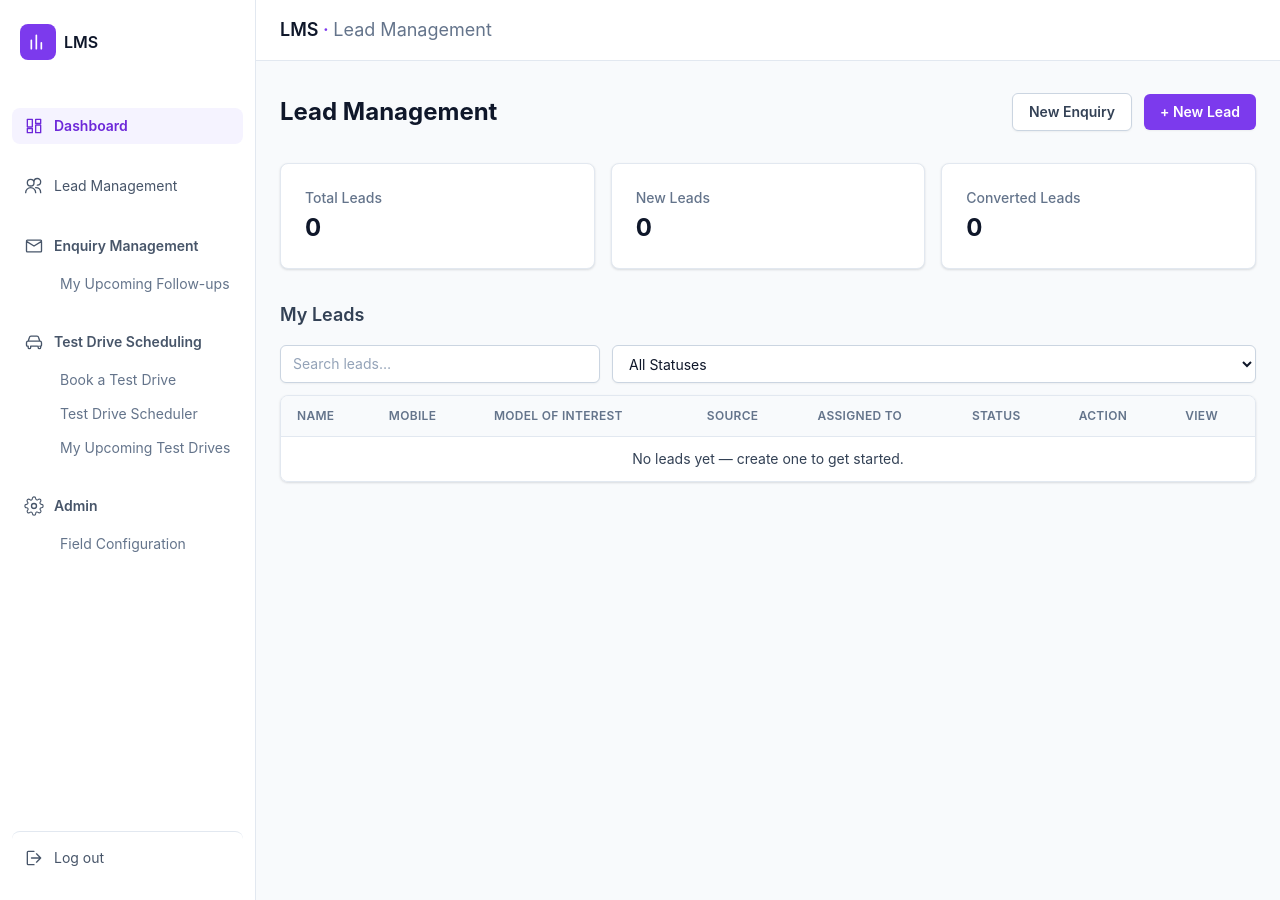
it: LeadManagementPage entry point / feature toggle (CC-10) › New Lead slide-over panel (issue #118) › AC3: closing via the close button removes the panel and leaves the page intact
Click the button "+ New Lead": (1200, 112) [1144,94,1256,130]
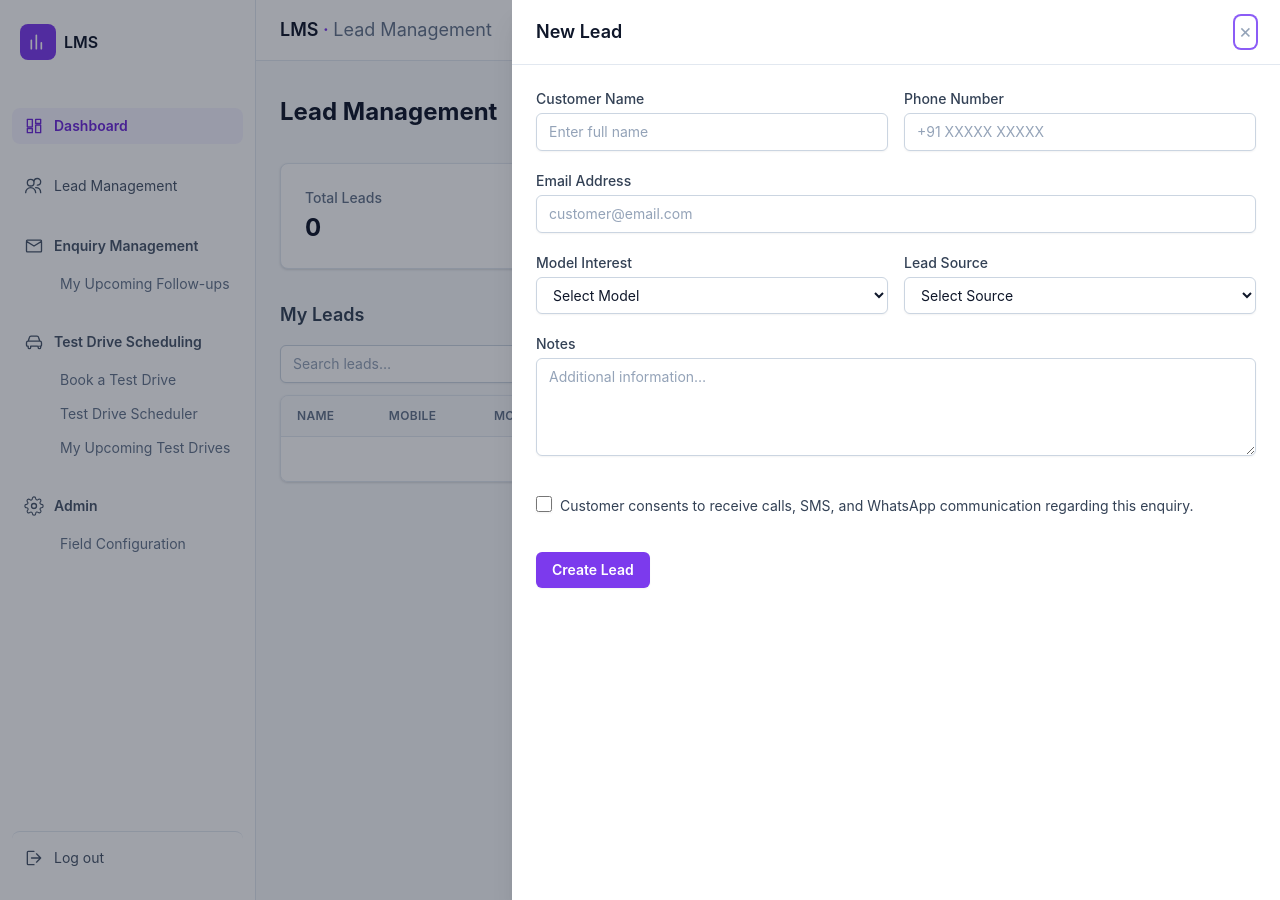
Result: the dialog "New Lead" is shown at [512,0,1279,899]
Click the button named "close": (1245, 32) [1235,16,1256,48]
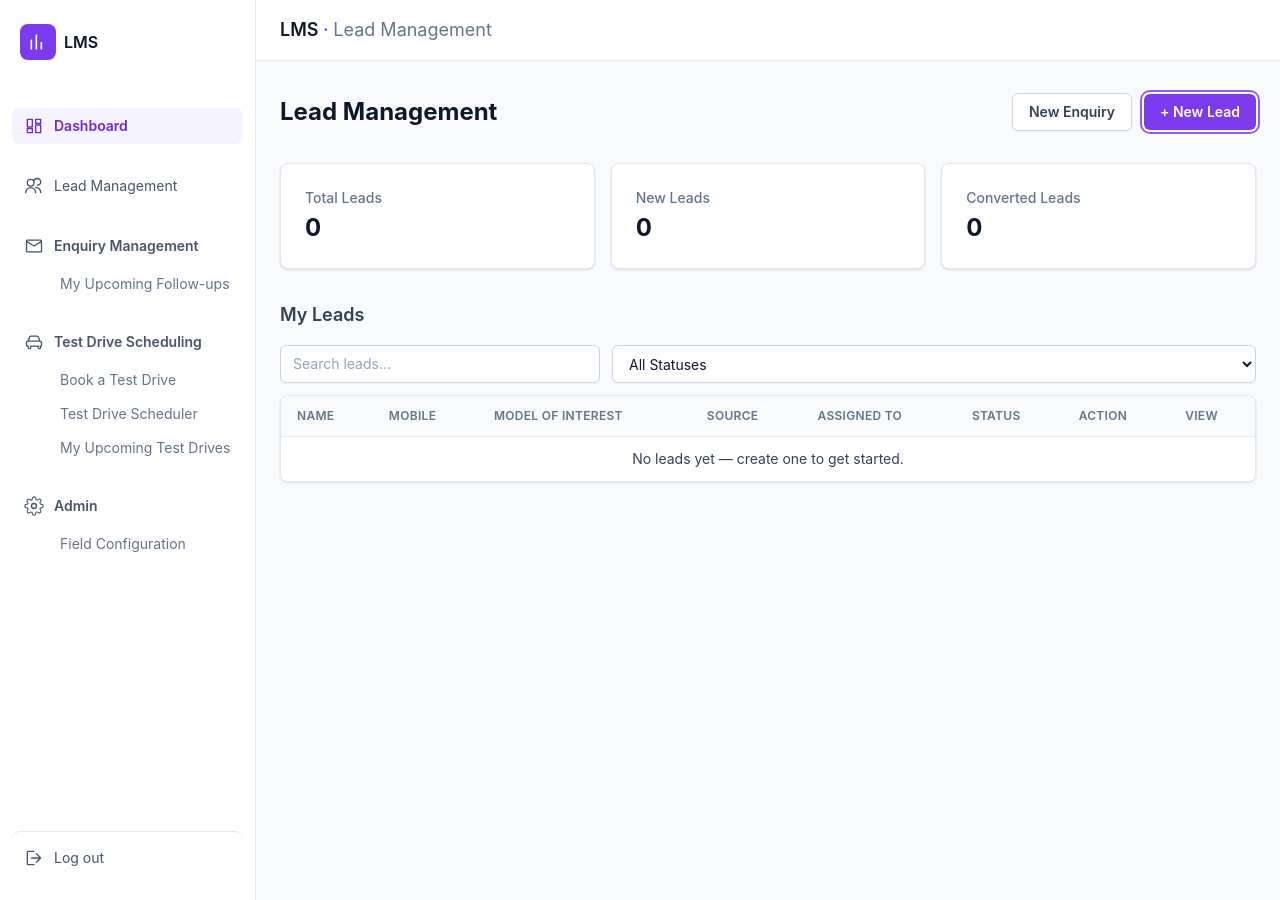
Expected: the heading "Lead Management" is shown, [280,96,497,128]
Result: the dialog is gone
